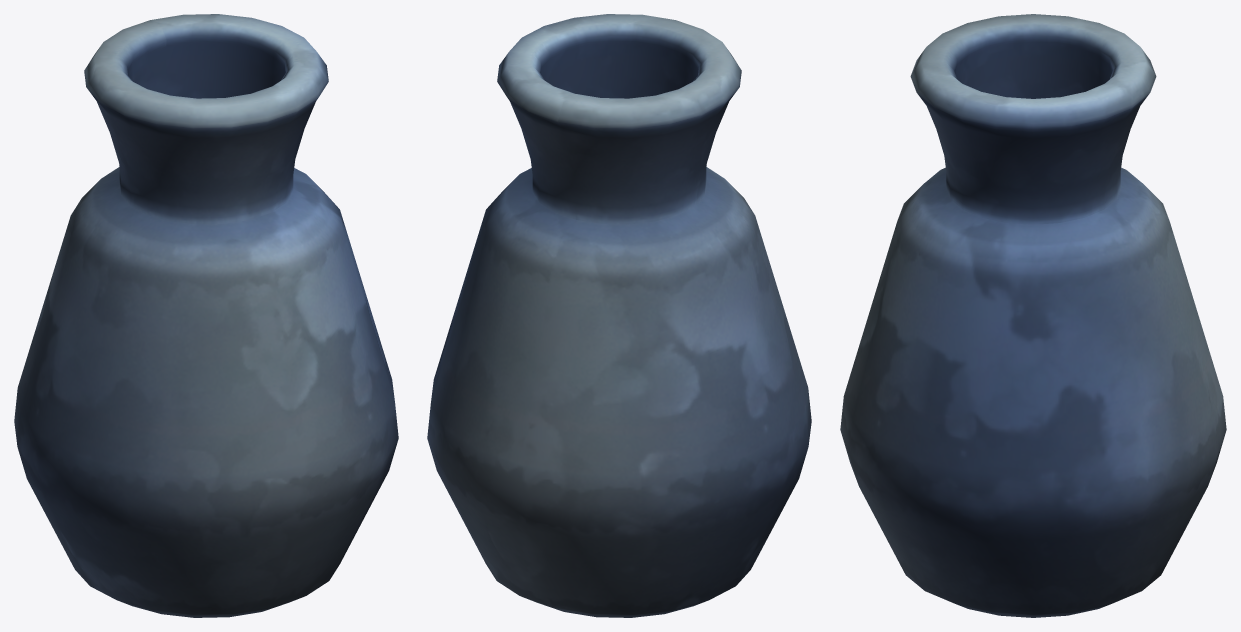
The model's file is SM_Vase_03.fbx.
3 views of the same model, side by side, from view 1: azimuth 30°, elevation 25°; view 2: azimuth 150°, elevation 25°; view 3: azimuth 270°, elevation 25° (orthographic).
Parts seen in each view (by area): view 1: SM_Vase_03_LOD0; view 2: SM_Vase_03_LOD0; view 3: SM_Vase_03_LOD0.
Part boxes in pixels (x1,y1,x2,y2): SM_Vase_03_LOD0: [14, 14, 398, 617]; SM_Vase_03_LOD0: [427, 14, 811, 617]; SM_Vase_03_LOD0: [840, 14, 1226, 617].
Bounding box in the file's own units: 30.46 × 30.46 × 44.33.
Materials: 1 (1 with a texture image).
